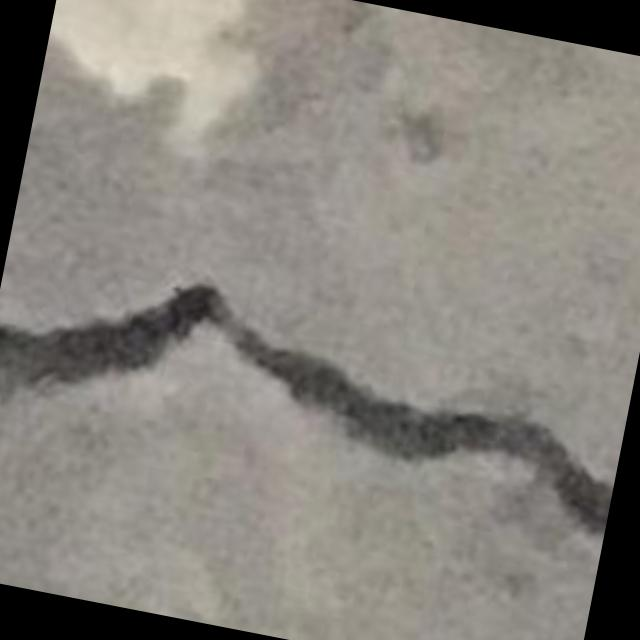crack: (0, 285, 612, 531)
